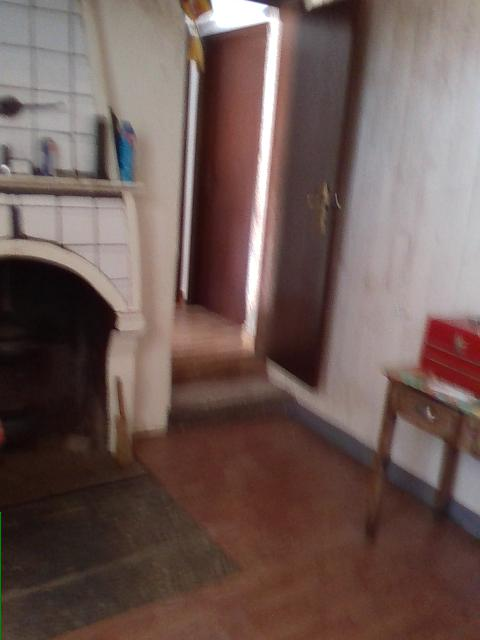door: (265, 1, 358, 396), (199, 34, 264, 325)
